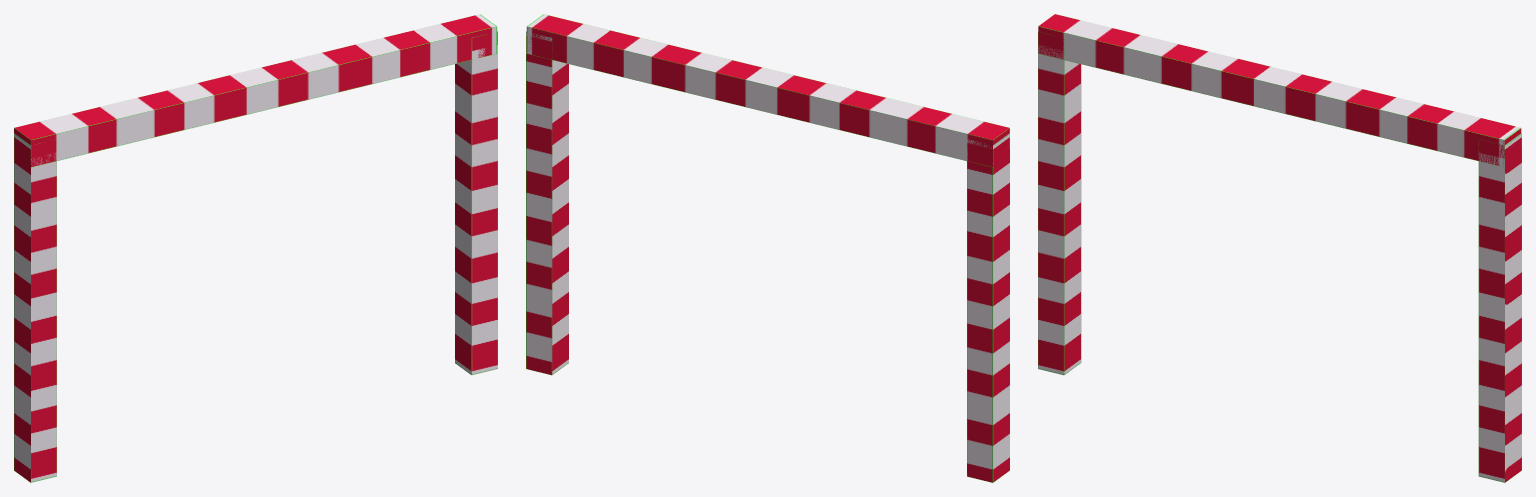
Rendered from sm_porteria.fbx.
The picture shows the model from 3 angles, left to right: view 1: azimuth 30°, elevation 25°; view 2: azimuth 150°, elevation 25°; view 3: azimuth 330°, elevation 25°; orthographic projection.
Parts seen in each view (by area): view 1: Box003; view 2: Box003; view 3: Box003.
Boxes of the visible parts, left/top/right/bottom form: Box003: left=14, top=14, right=497, bottom=482; Box003: left=526, top=14, right=1009, bottom=482; Box003: left=1038, top=14, right=1521, bottom=482.
Size of the model in its own units: 140 by 98.12 by 8.75.
